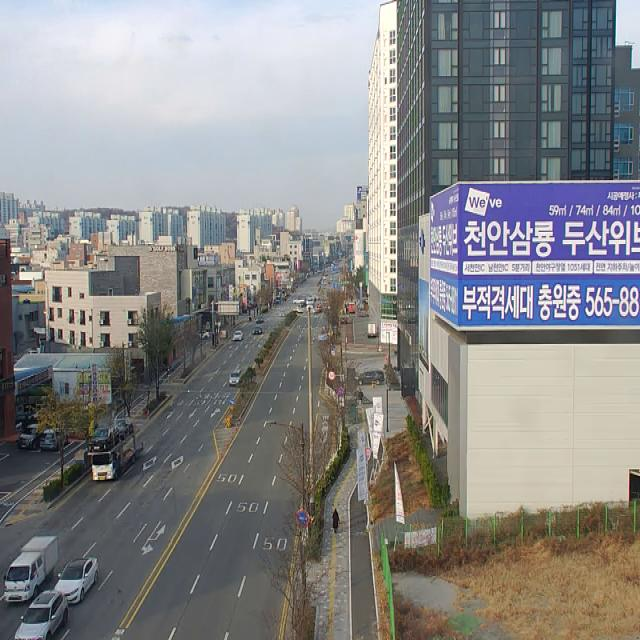Car: (15, 590, 68, 640), (53, 557, 98, 603), (40, 427, 66, 451), (17, 424, 40, 450), (355, 368, 385, 384), (229, 370, 241, 386), (197, 329, 210, 338), (233, 331, 243, 340), (253, 325, 262, 334)
Truck: (82, 404, 144, 484), (3, 535, 58, 601), (368, 319, 379, 336)
